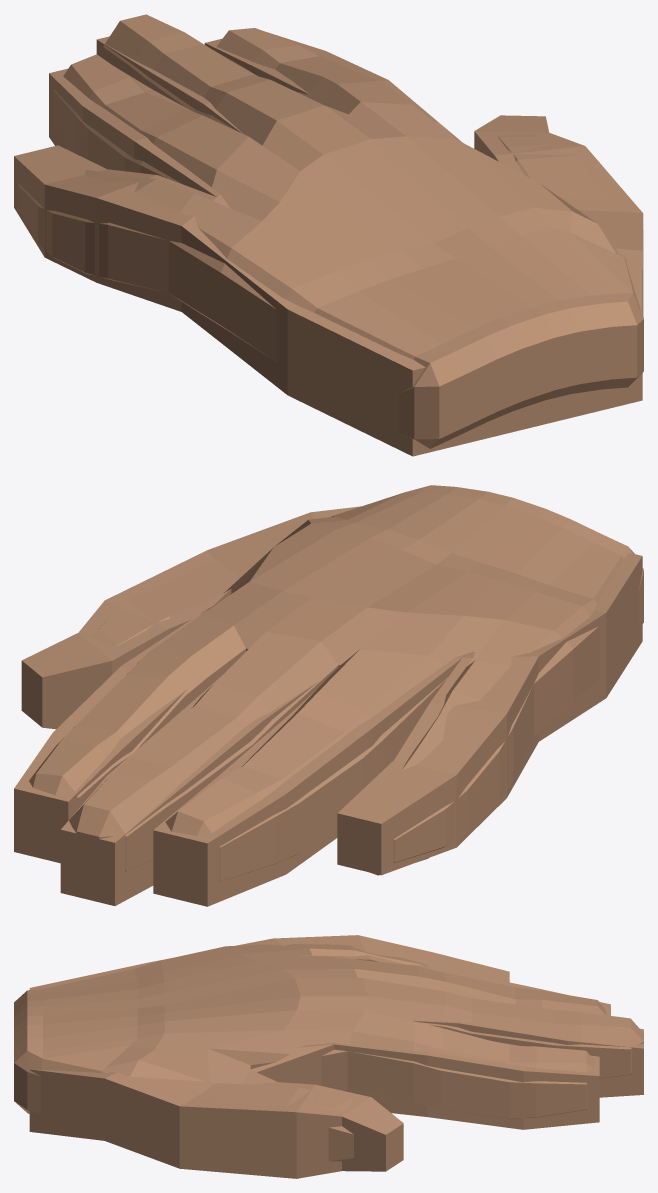
The model's file is Hand_Test.fbx.
3 renders of one model, top to bottom at view 1: azimuth 30°, elevation 25°; view 2: azimuth 150°, elevation 25°; view 3: azimuth 270°, elevation 25°, orthographic. The views are drawn at different scales.
Parts seen in each view (by area): view 1: Hand.Detail, Hand.Rough; view 2: Hand.Detail, Hand.Rough; view 3: Hand.Detail, Hand.Rough.
Boxes of the visible parts, x1,y1,x2,y2 form: Hand.Detail: (18, 14, 643, 448); Hand.Rough: (14, 30, 643, 456); Hand.Detail: (29, 485, 643, 881); Hand.Rough: (14, 506, 642, 906); Hand.Detail: (14, 944, 643, 1165); Hand.Rough: (29, 935, 643, 1178).
Bounding box in the file's own units: 10.07 × 3.03 × 16.08.
